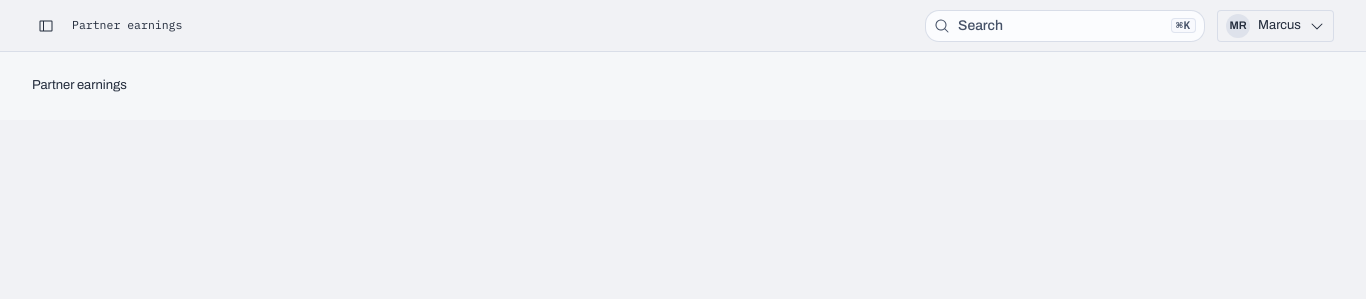
AppShell account identity › heads the affiliate menu with the person and their business
Click the button with aria-label "Affiliate account" at point(1276, 26), box [1217,10,1334,42]
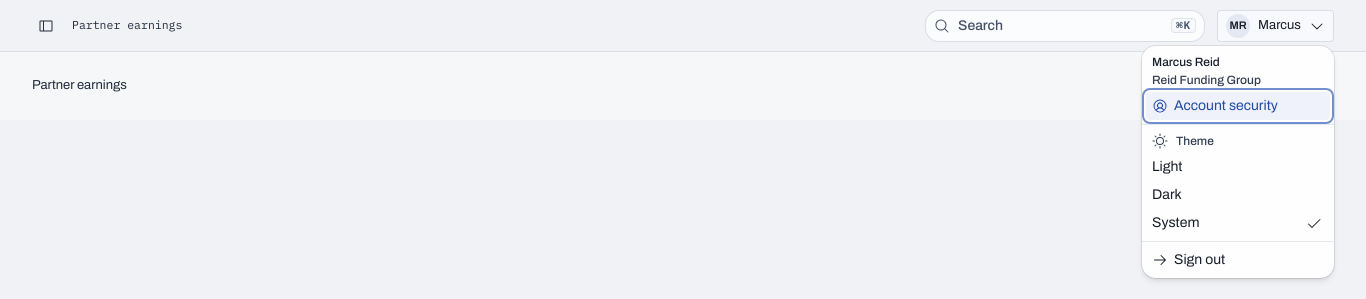
expect the text "Marcus Reid" is shown: met, box [1152,55,1220,69]
expect the text "Reid Funding Group" is shown: met, box [1152,73,1261,87]
